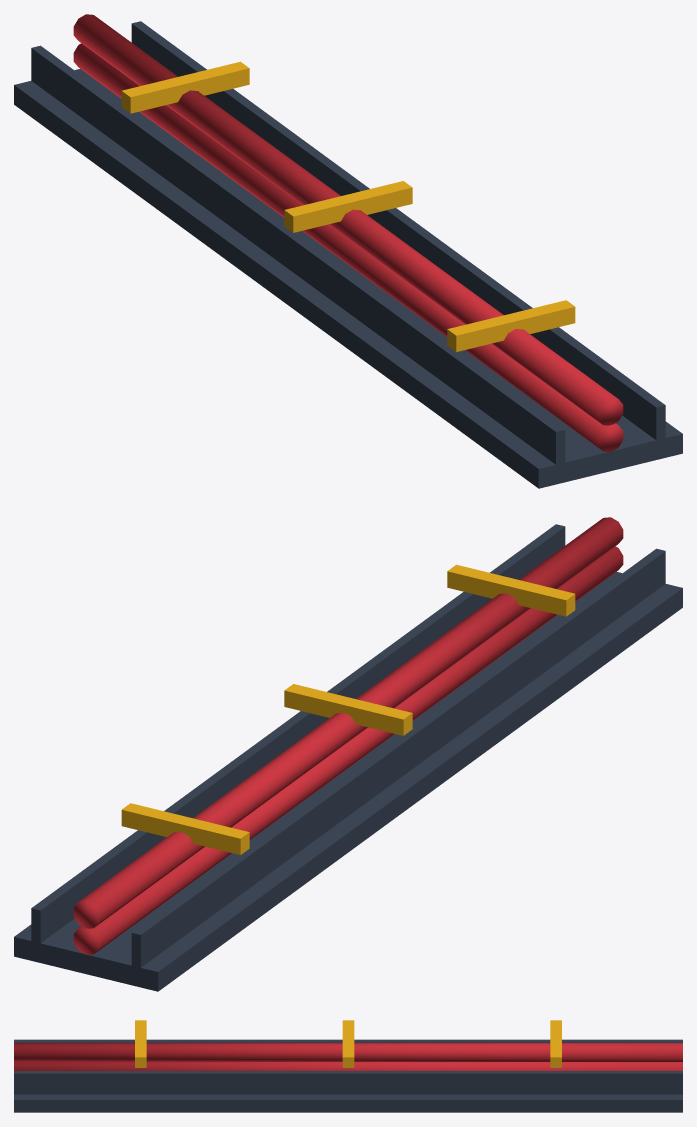
The model's file is Conduit3.fbx.
3 views of the same model, one above another, from view 1: azimuth 30°, elevation 25°; view 2: azimuth 150°, elevation 25°; view 3: azimuth 270°, elevation 25° (orthographic). The views are drawn at different scales.
Parts seen in each view (by area): view 1: Tray_Tray0, Tray_Lip0, CableA_Pipe4, Tray_Lip1, CableA_Pipe0, Hazard_Clip1, Hazard_Clip2, Hazard_Clip0; view 2: Tray_Tray0, Tray_Lip0, CableA_Pipe4, Tray_Lip1, CableA_Pipe0, Hazard_Clip0, Hazard_Clip1, Hazard_Clip2; view 3: Tray_Lip1, Tray_Tray0, CableA_Pipe4, CableA_Pipe0, Tray_Lip0, Hazard_Clip1, Hazard_Clip0, Hazard_Clip2.
Part boxes in pixels (box(x1,y1,x2,y2)): Tray_Tray0: box(14, 69, 682, 488); Tray_Lip0: box(31, 45, 565, 484); CableA_Pipe4: box(73, 14, 623, 425); Tray_Lip1: box(131, 21, 665, 459); CableA_Pipe0: box(73, 43, 623, 451); Hazard_Clip1: box(284, 181, 412, 232); Hazard_Clip2: box(121, 61, 249, 113); Hazard_Clip0: box(447, 300, 575, 351); Tray_Tray0: box(14, 572, 682, 991); Tray_Lip0: box(131, 548, 665, 987); CableA_Pipe4: box(73, 517, 623, 928); Tray_Lip1: box(31, 524, 565, 962); CableA_Pipe0: box(73, 546, 623, 954); Hazard_Clip0: box(447, 564, 575, 616); Hazard_Clip1: box(284, 684, 412, 735); Hazard_Clip2: box(121, 803, 249, 854); Tray_Lip1: box(14, 1071, 682, 1094); Tray_Tray0: box(14, 1094, 682, 1112); CableA_Pipe4: box(14, 1043, 682, 1061); CableA_Pipe0: box(14, 1062, 682, 1070); Tray_Lip0: box(14, 1039, 682, 1042); Hazard_Clip1: box(342, 1020, 354, 1067); Hazard_Clip0: box(135, 1020, 146, 1067); Hazard_Clip2: box(550, 1020, 561, 1067).
Size of the model in its own units: 0.46 by 2.9 by 0.245.
